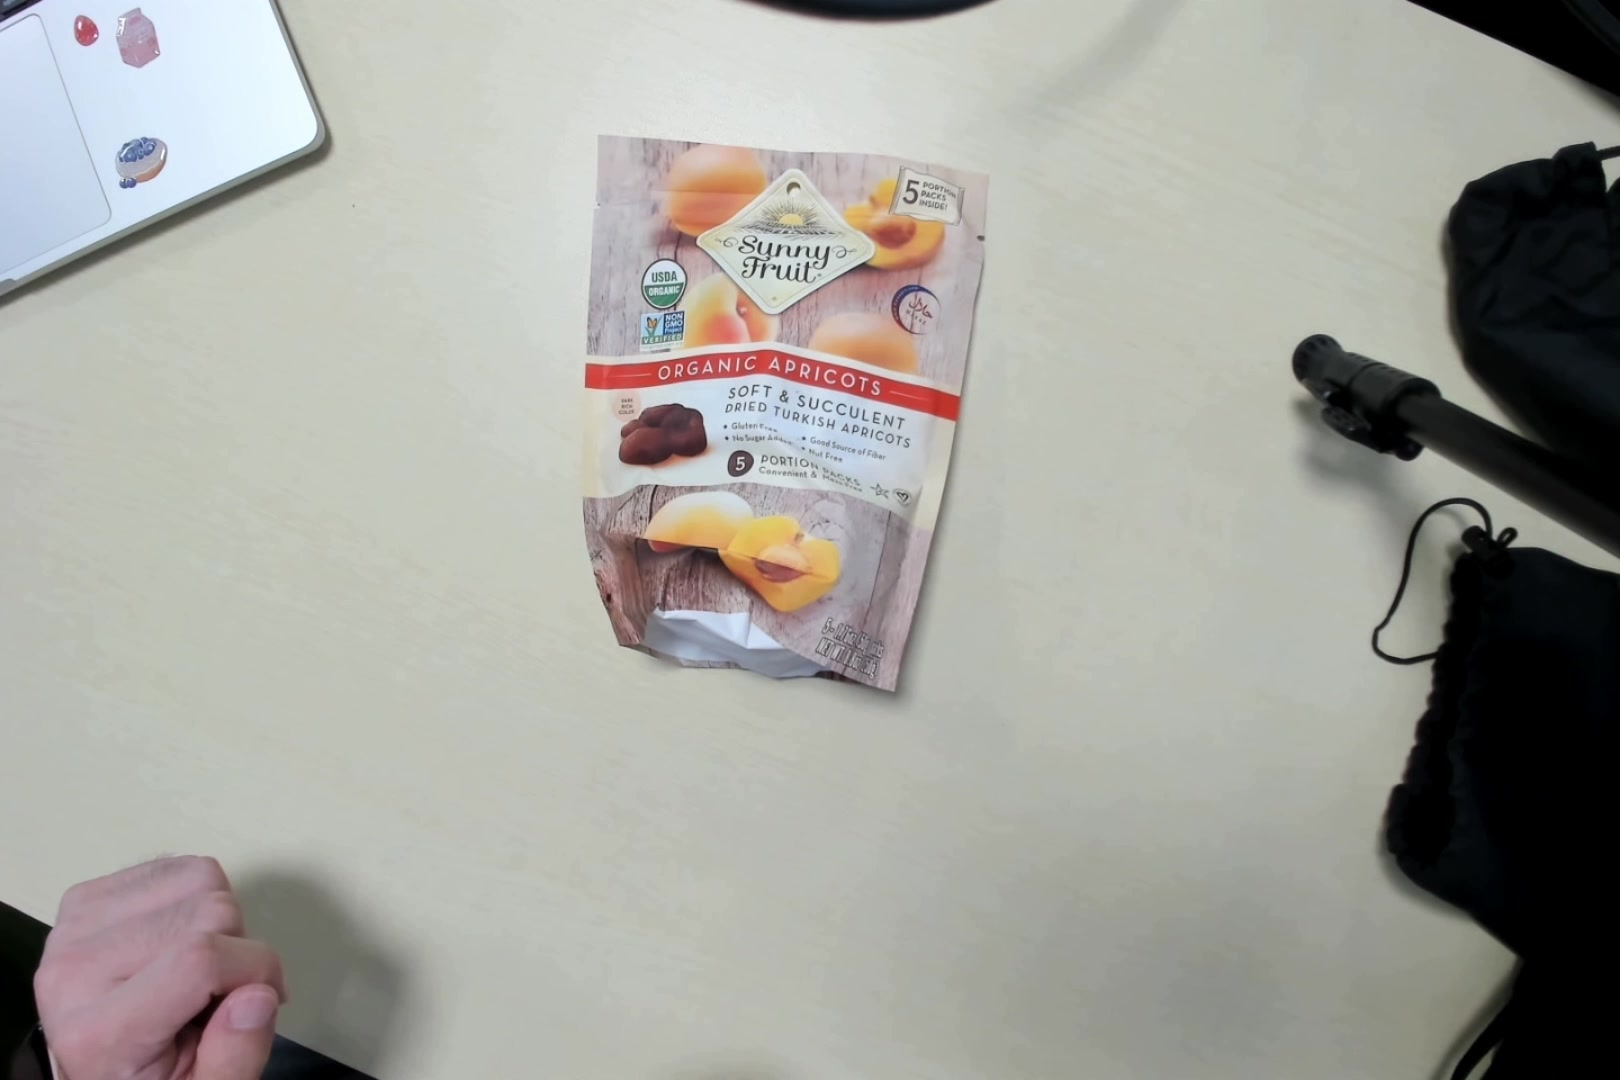DriedFood_0-99g_Halal_NonHealthy: (582, 127, 984, 692)
